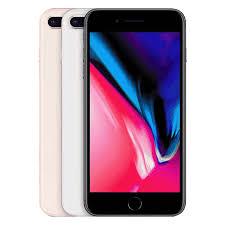iphone: (80, 5, 188, 221)
iphone8: (81, 5, 189, 221)
